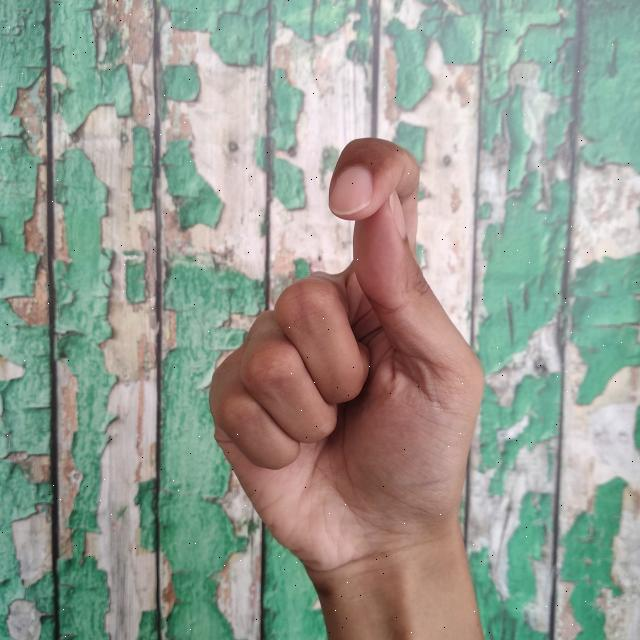T: (202, 128, 492, 640)
